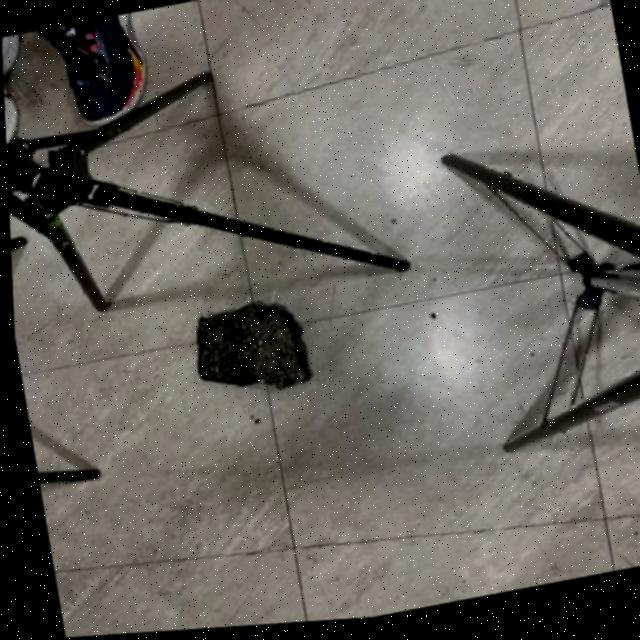Road Debris: (183, 303, 259, 400)
